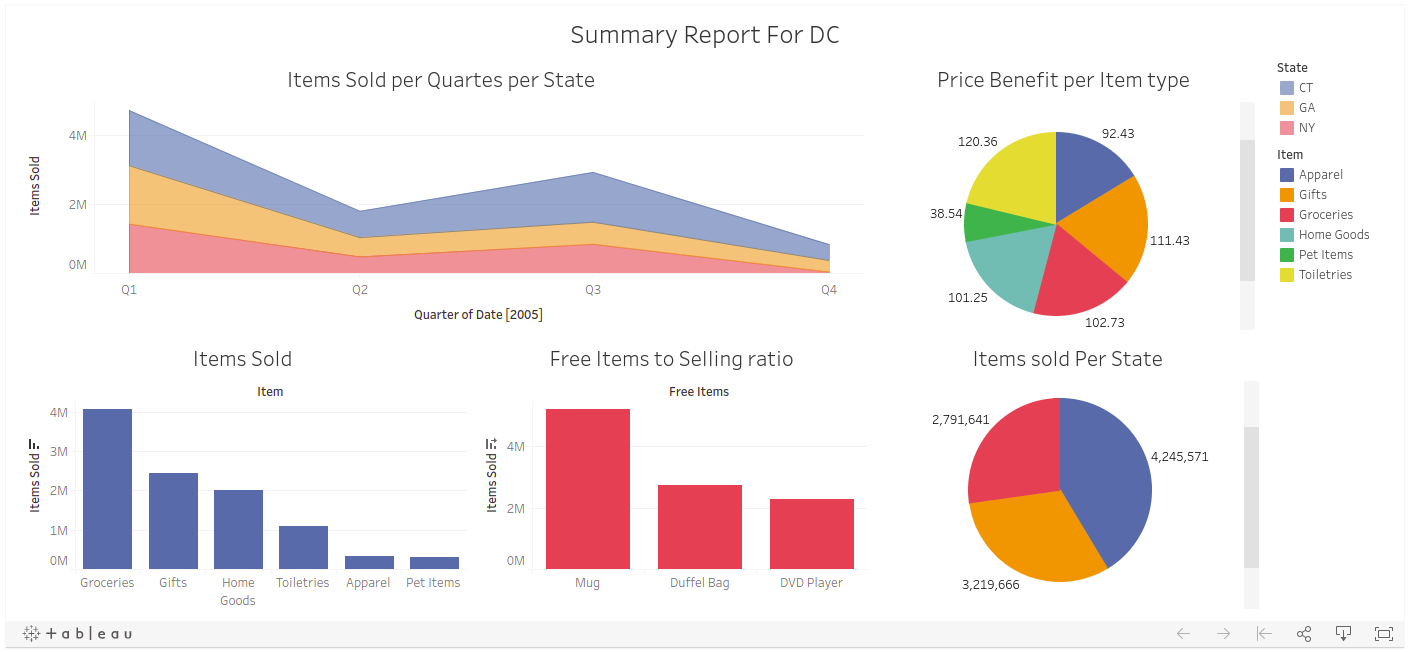

This screenshot's page, from the dashboard's own definition file:
{"tool":"tableau","page":{"name":"Dashboard 1","canvas":[1000,1000],"units":"permille","ordinal":0},"visuals":[{"type":"worksheet","box":[0,0,1000,1000]},{"type":"worksheet","param":"vert","box":[5.8,11.1,988.5,977.9]},{"type":"worksheet","box":[5.8,11.1,988.5,58]},{"type":"worksheet","param":"horz","box":[5.8,69.1,988.5,919.9]},{"type":"worksheet","box":[5.8,69.1,899.9,919.9]},{"type":"worksheet","title":"Sheet 5","mark":"Area","rows":["Items Sold"],"cols":["Date"],"box":[5.8,69.1,610.2,459.9]},{"type":"worksheet","title":"Price benefit","mark":"Pie","box":[615.9,69.1,289.8,459.9]},{"type":"worksheet","param":"vert","box":[905.7,69.1,88.5,919.9]},{"type":"worksheet","title":"Sheet 5","mark":"Area","rows":["Items Sold"],"cols":["Date"],"param":"[federated.0573byh0xkkg3s101yunb0f192sr].[none:State:nk]","box":[905.7,69.1,88.5,118.8]},{"type":"worksheet","title":"Price benefit","mark":"Pie","param":"[federated.0573byh0xkkg3s101yunb0f192sr].[none:Item:nk]","box":[905.7,187.8,88.5,201.7]},{"type":"worksheet","title":"Items sold","mark":"Automatic","rows":["Items Sold"],"cols":["Item"],"box":[5.8,529,326.9,459.9]},{"type":"worksheet","title":"Sheet 2","mark":"Automatic","rows":["Items Sold"],"cols":["Free Items"],"box":[332.6,529,286.6,459.9]},{"type":"worksheet","title":"Sheet 4","mark":"Pie","box":[619.2,529,286.5,459.9]}]}

Visuals, with their boxes on the dashboard's canvas, which has no fixed pixel size, in thousandths of its width and height (x1, y1, x2, y2). These are canvas units, not pixel positions in the 1410x652 screenshot, which may show the page scaled, cropped or inside an application window:
worksheet: (0,0,1000,1000)
worksheet: (6,11,994,989)
worksheet: (6,11,994,69)
worksheet: (6,69,994,989)
worksheet: (6,69,906,989)
"Sheet 5" worksheet (Area marks): (6,69,616,529)
"Price benefit" worksheet (Pie marks): (616,69,906,529)
worksheet: (906,69,994,989)
"Sheet 5" worksheet (Area marks): (906,69,994,188)
"Price benefit" worksheet (Pie marks): (906,188,994,390)
"Items sold" worksheet: (6,529,333,989)
"Sheet 2" worksheet: (333,529,619,989)
"Sheet 4" worksheet (Pie marks): (619,529,906,989)
